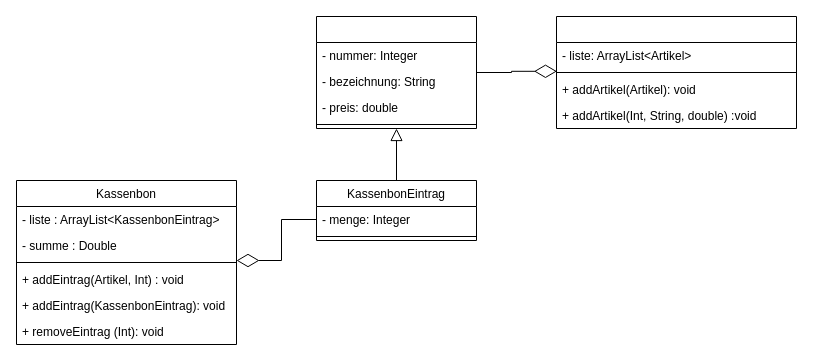
This 813x361 diagram has some shape labels left out. Each missing label, with the box of its shape:
Artikel: (316, 16, 476, 128)
Artikelliste: (556, 16, 796, 128)
